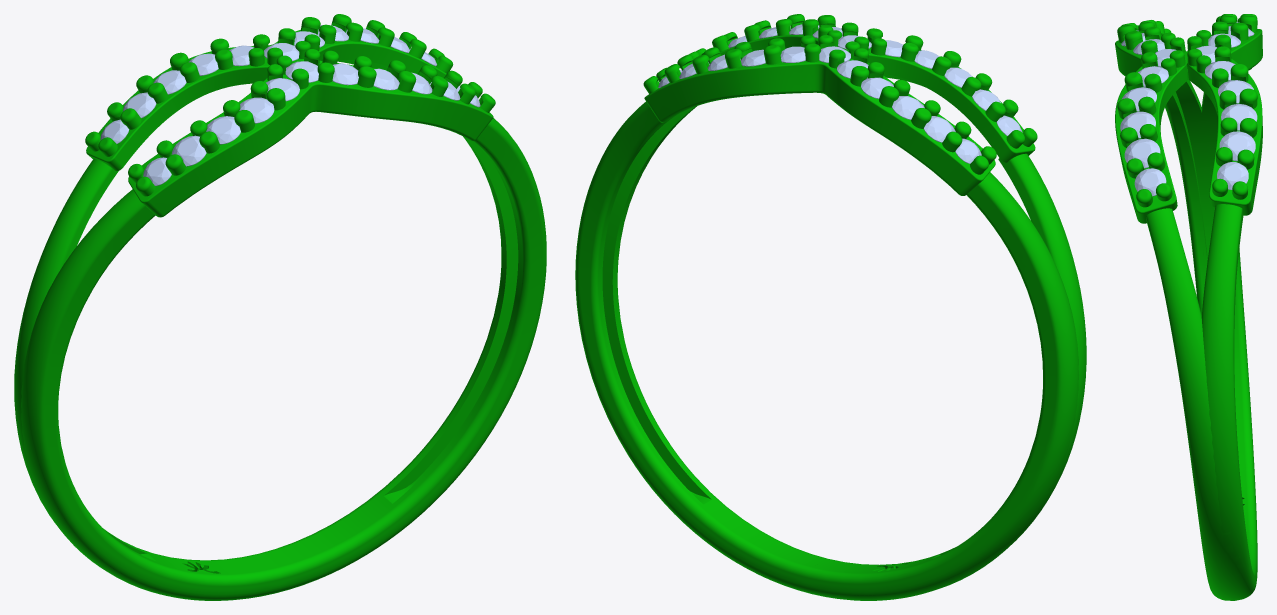
The picture shows the model from 3 angles, left to right: view 1: azimuth 30°, elevation 25°; view 2: azimuth 150°, elevation 25°; view 3: azimuth 270°, elevation 25°; orthographic projection. The views are drawn at different scales.
Parts seen in each view (by area): view 1: 1.3dm; view 2: 1.3dm; view 3: 1.3dm.
Part boxes in pixels (x1=…): 1.3dm: x1=14, y1=14, x2=546, y2=600; 1.3dm: x1=575, y1=14, x2=1086, y2=600; 1.3dm: x1=1115, y1=14, x2=1262, y2=600.
Size of the model in its own units: 2.73 by 2.83 by 0.7137.
